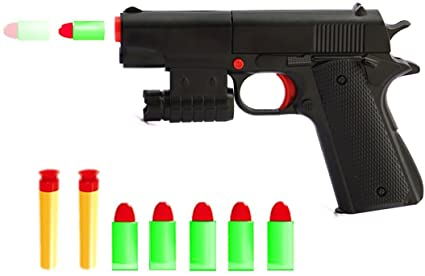Arma Falsa: (113, 4, 425, 216)
